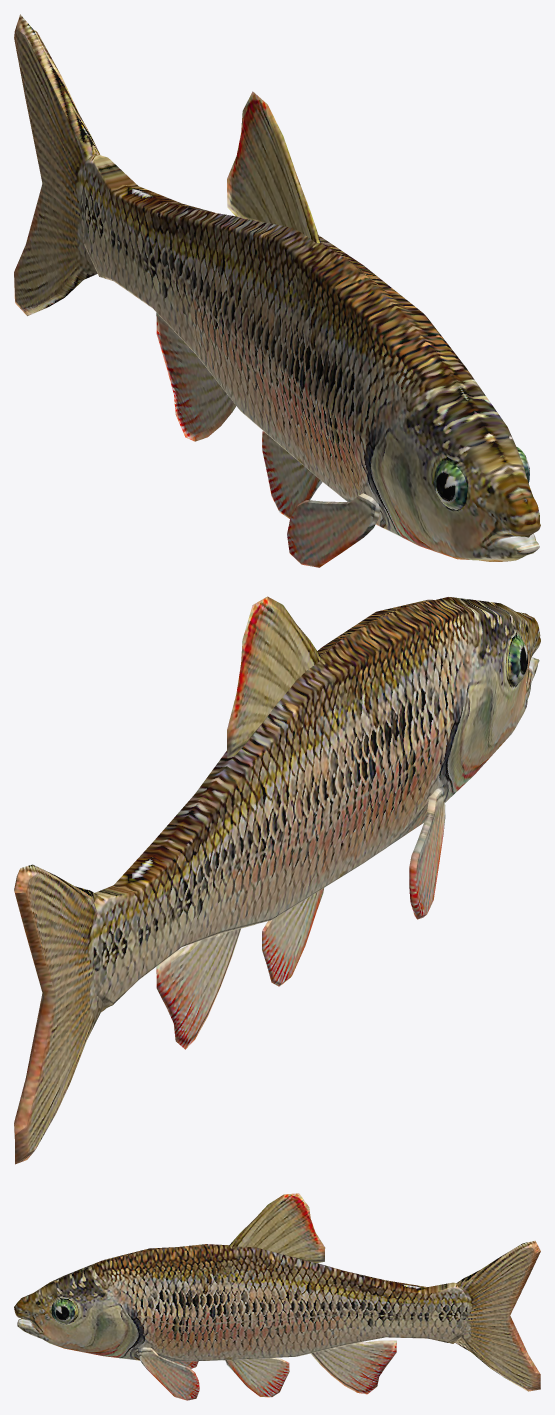
Rendered from eyeball2.fbx.
The picture shows the model from 3 angles, top to bottom: view 1: azimuth 30°, elevation 25°; view 2: azimuth 150°, elevation 25°; view 3: azimuth 270°, elevation 25°; orthographic projection. The views are drawn at different scales.
Visible parts, largest first — view 1: pSphere3; view 2: pSphere3; view 3: pSphere3.
Part boxes in pixels (x1,y1,x2,y2): pSphere3: (14, 14, 540, 567); pSphere3: (14, 596, 540, 1164); pSphere3: (14, 1193, 540, 1400).
Bounding box in the file's own units: 0.6894 × 2.01 × 4.7.
1 material, 1 textured.
